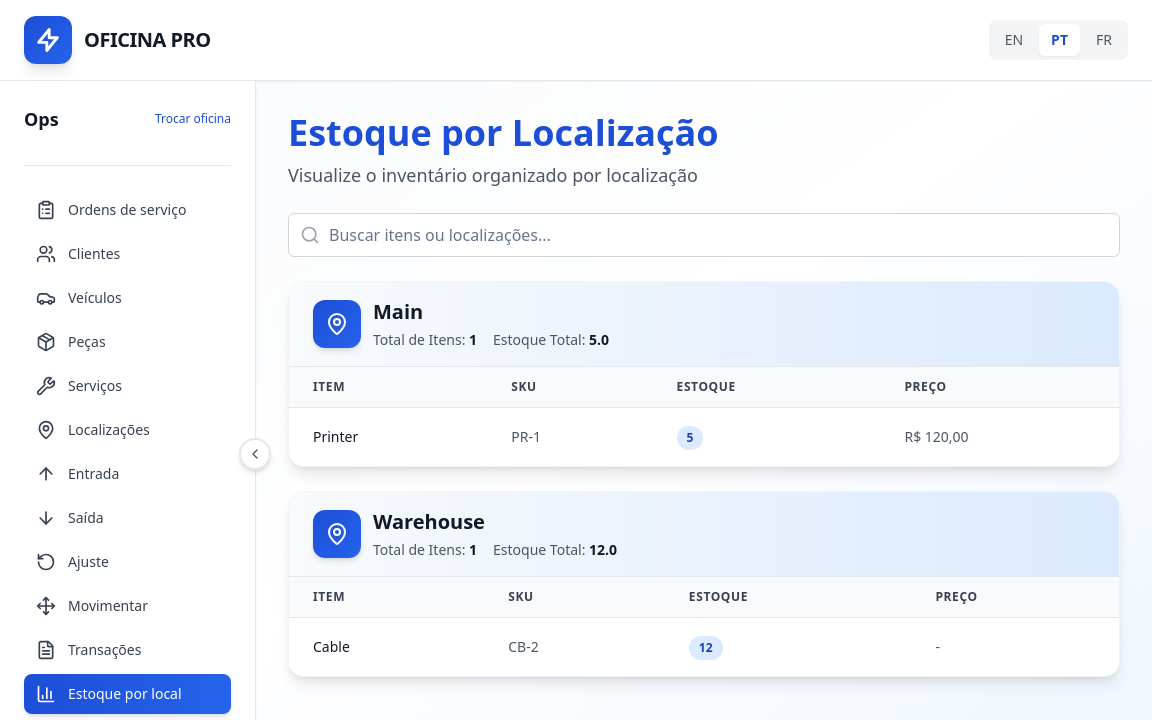
Test case: TeamStockByLocationPage › filters items by search query
Expected: the heading "Estoque por Localização" is shown, [288,108,718,157]
Type "Printer" into the field with placeholder "Buscar itens ou localizações..." at [704, 235], box [288,213,1120,257]
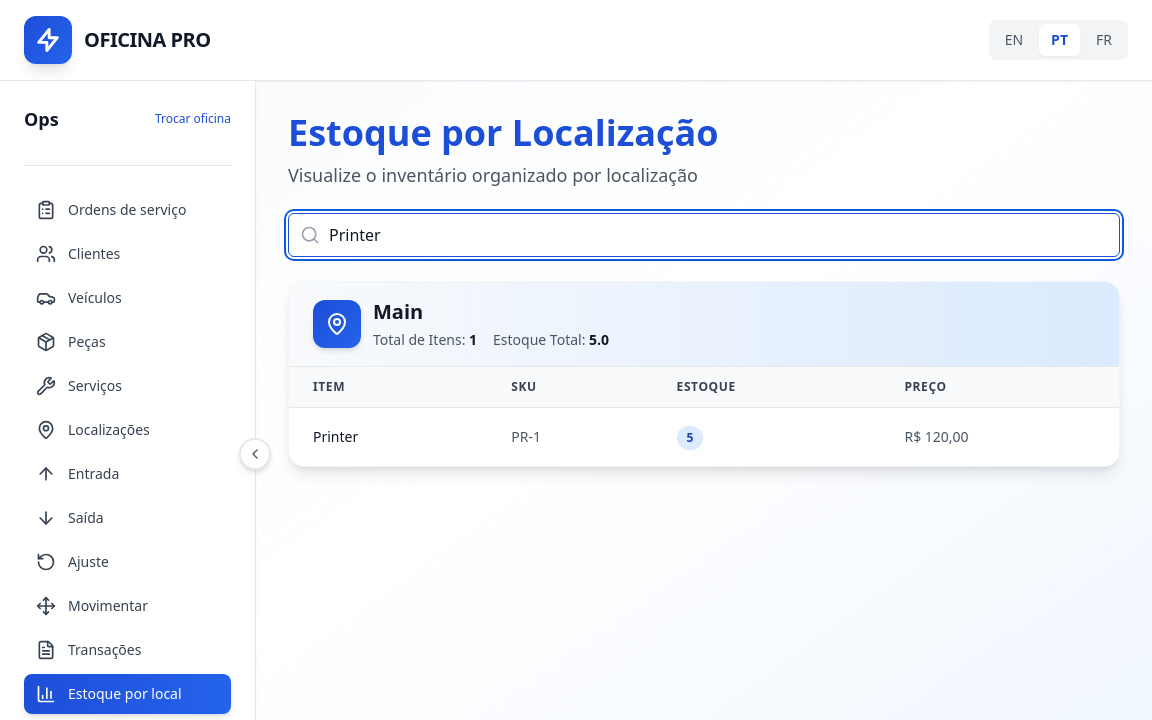
Expected: the text "Printer" is shown, [313,427,358,446]
Expected: the text "Cable" is gone
